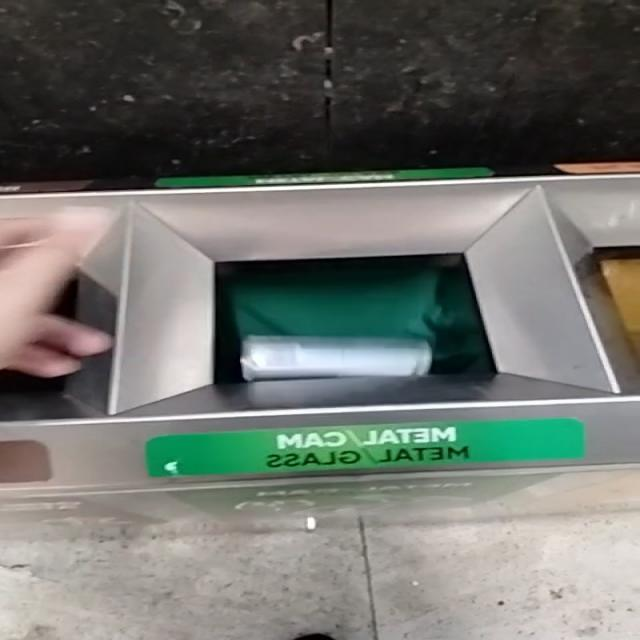Bin: (1, 175, 639, 491)
Metal: (240, 336, 431, 381)
